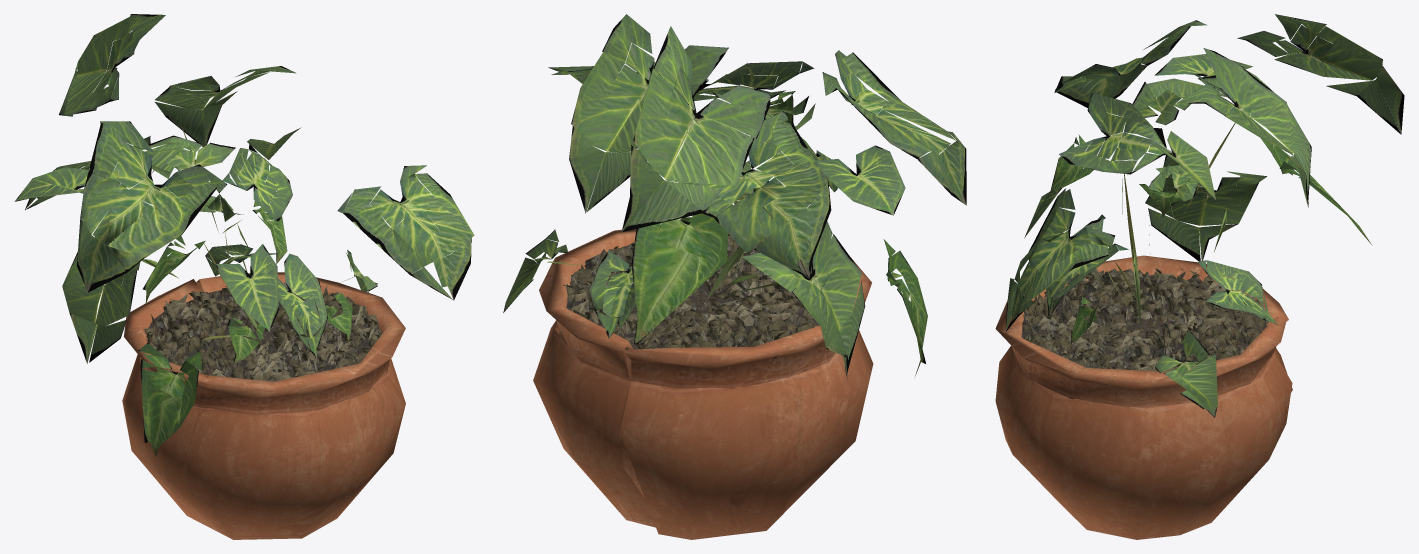
Rendered from potted_plant_02.glb.
3 renders of one model, left to right at view 1: azimuth 30°, elevation 25°; view 2: azimuth 150°, elevation 25°; view 3: azimuth 270°, elevation 25°, orthographic. The views are drawn at different scales.
Parts seen in each view (by area): view 1: potted_plant_02_leaves, potted_plant_02_pot, potted_plant_02_dirt; view 2: potted_plant_02_leaves, potted_plant_02_pot, potted_plant_02_dirt; view 3: potted_plant_02_leaves, potted_plant_02_pot, potted_plant_02_dirt.
Boxes of the visible parts, bbox=[...] form: potted_plant_02_leaves: bbox=[14, 14, 474, 456]; potted_plant_02_pot: bbox=[122, 272, 405, 539]; potted_plant_02_dirt: bbox=[143, 282, 383, 396]; potted_plant_02_leaves: bbox=[503, 14, 966, 378]; potted_plant_02_pot: bbox=[533, 225, 873, 539]; potted_plant_02_dirt: bbox=[563, 233, 829, 358]; potted_plant_02_leaves: bbox=[1005, 14, 1404, 417]; potted_plant_02_pot: bbox=[995, 255, 1292, 539]; potted_plant_02_dirt: bbox=[1021, 267, 1268, 376].
Size of the model in its own units: 0.6977 by 0.8437 by 0.6579.
2 materials, 2 textured.
